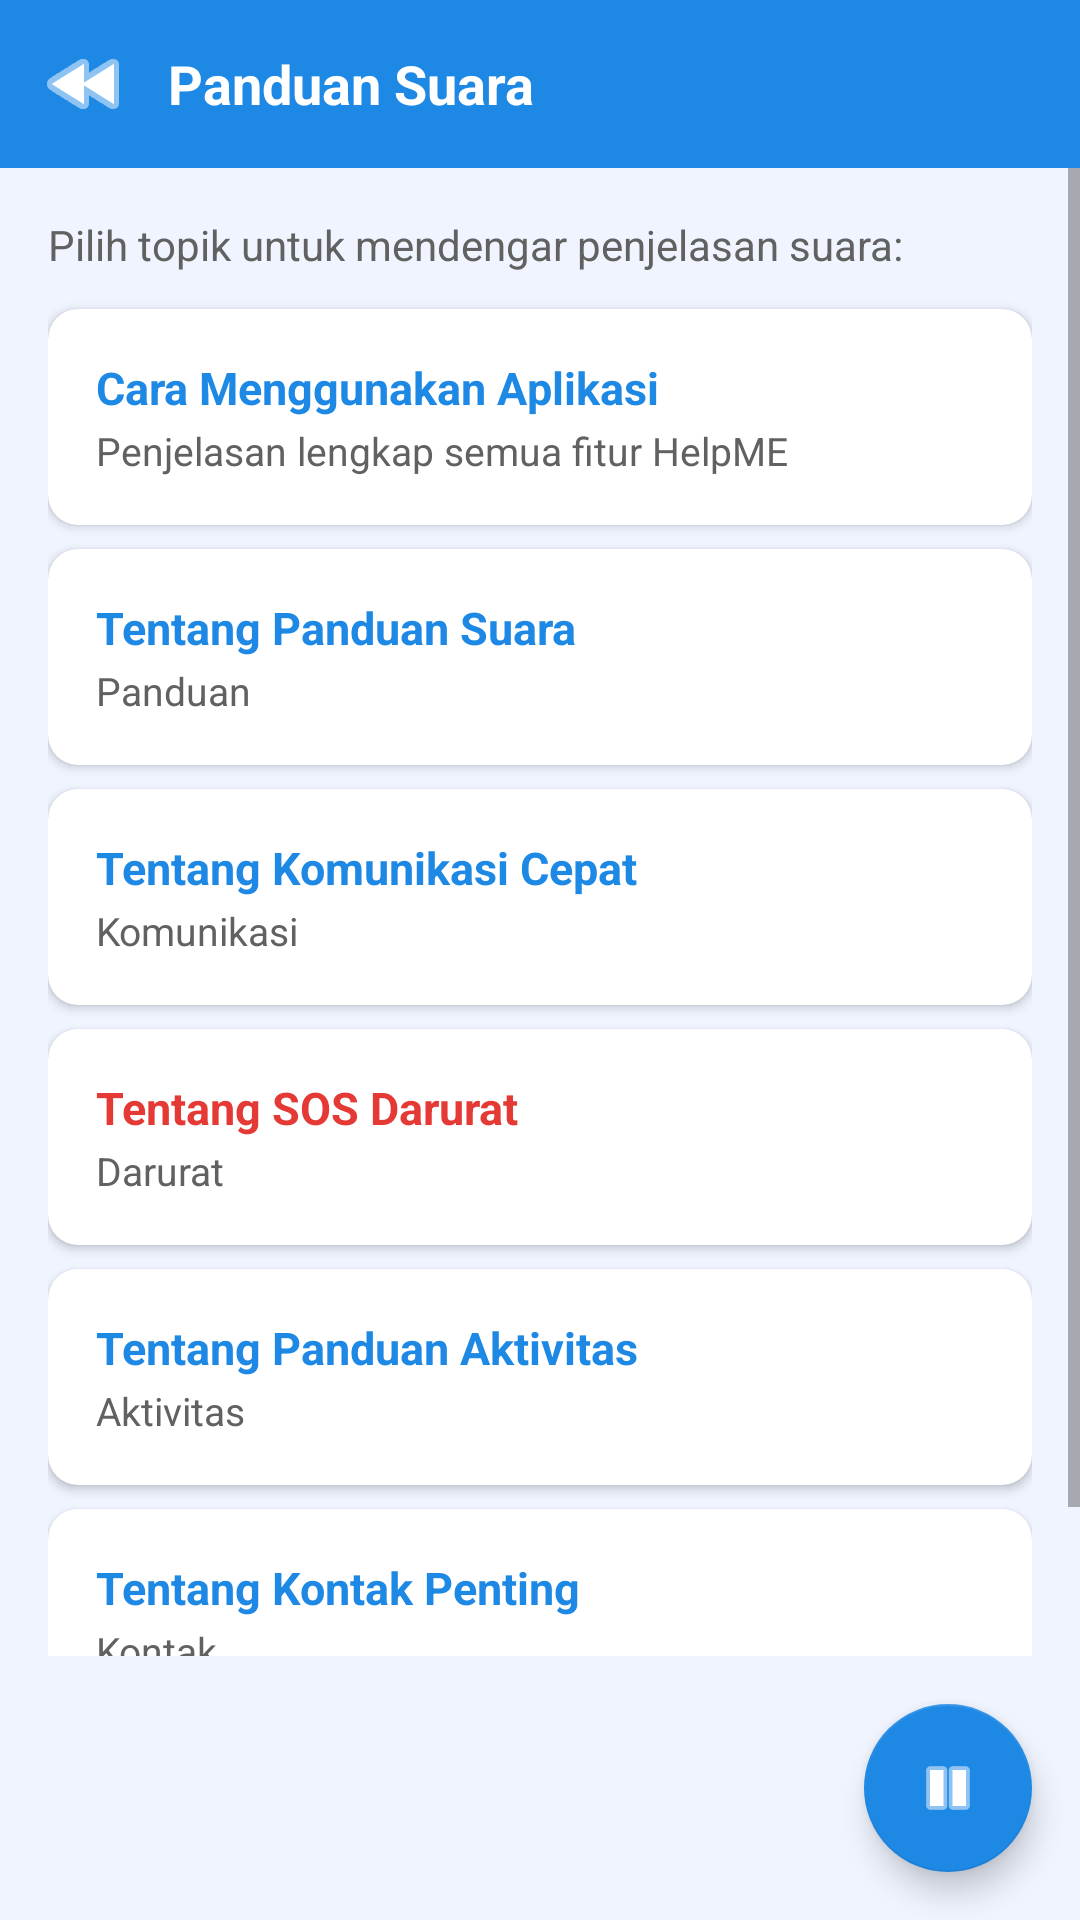

Named icons in this screenshot (1080x1920) and their bounding boxes, (x1, y1, x2, y2):
Hentikan suara: (864, 1704, 1032, 1872)
Kembali: (47, 59, 119, 109)
